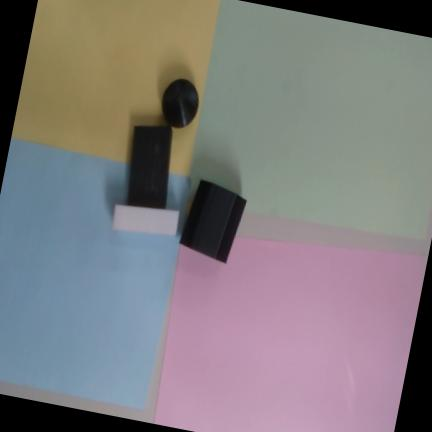Esfera: (162, 79, 199, 129)
Paralelepipedo: (127, 126, 172, 209), (112, 203, 179, 237)
Prisma_hexagonal: (179, 180, 247, 264)
